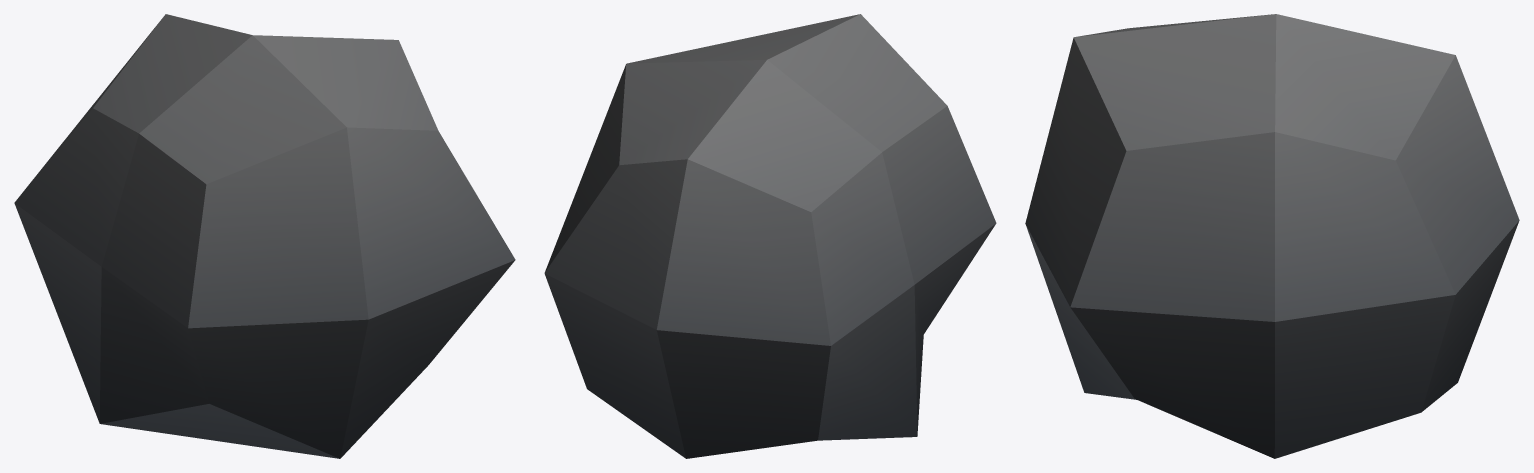
The model's file is Rock_Small.fbx.
3 views of the same model, side by side, from view 1: azimuth 30°, elevation 25°; view 2: azimuth 150°, elevation 25°; view 3: azimuth 270°, elevation 25° (orthographic). The views are drawn at different scales.
Visible parts, largest first — view 1: Rock_Small; view 2: Rock_Small; view 3: Rock_Small.
Part boxes in pixels (x1,y1,x2,y2): Rock_Small: (14, 14, 515, 458); Rock_Small: (544, 14, 996, 458); Rock_Small: (1025, 14, 1519, 458).
Size of the model in its own units: 146 by 151 by 167.
1 material, 1 textured.
